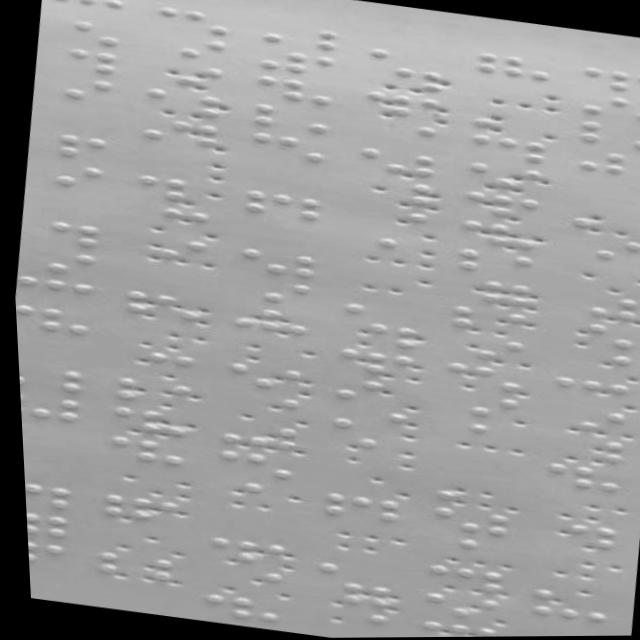braiile: (521, 601, 604, 637), (468, 132, 551, 168), (358, 116, 441, 152), (26, 126, 109, 162), (424, 503, 507, 538), (355, 144, 438, 179), (23, 156, 106, 191), (209, 446, 290, 481), (11, 271, 92, 306), (418, 560, 501, 594), (17, 214, 100, 248), (14, 243, 97, 277), (102, 432, 182, 467), (555, 289, 637, 323), (149, 30, 232, 63), (453, 246, 533, 280), (35, 70, 115, 104), (253, 73, 335, 106), (150, 5, 232, 38), (12, 302, 91, 336), (536, 460, 617, 493), (562, 232, 640, 266), (235, 245, 313, 279), (248, 131, 328, 164), (231, 275, 311, 308), (143, 85, 223, 118), (440, 388, 518, 421), (41, 42, 119, 75), (196, 591, 275, 623), (544, 403, 621, 435), (44, 15, 121, 47), (16, 389, 79, 424), (576, 64, 640, 97), (48, 0, 128, 22), (19, 477, 70, 509), (22, 533, 59, 565)
